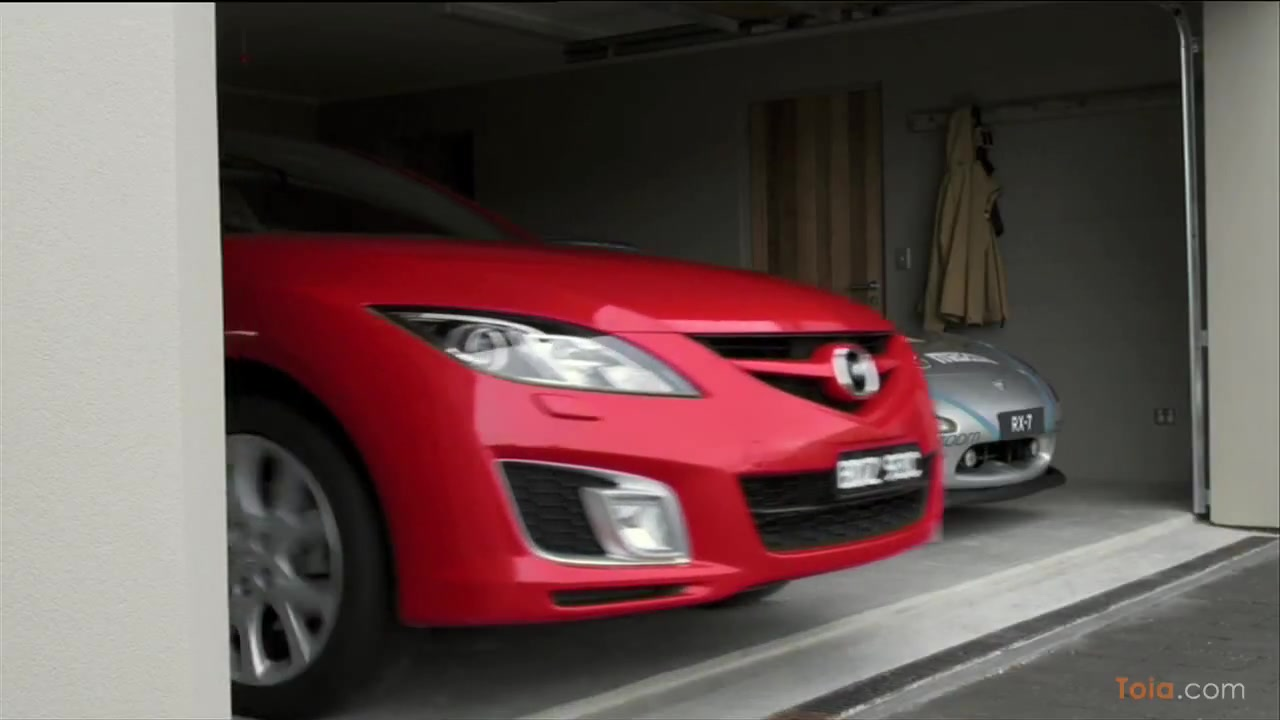car: (217, 115, 949, 720)
